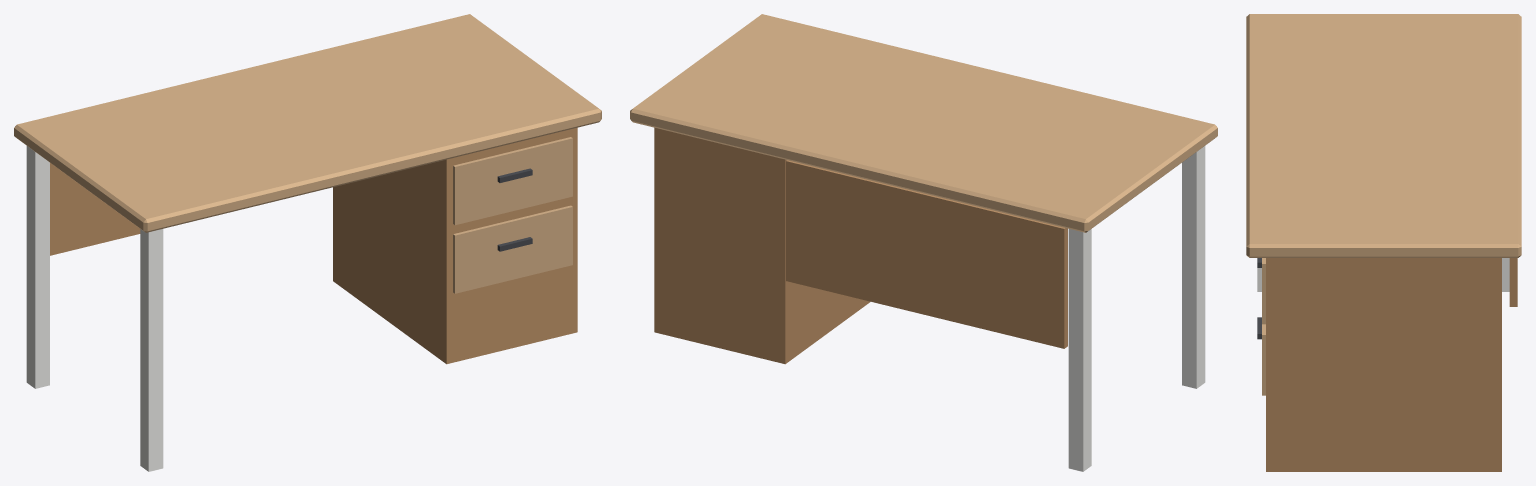
Rendered from desk_staff.glb.
3 views of the same model, side by side, from view 1: azimuth 30°, elevation 25°; view 2: azimuth 150°, elevation 25°; view 3: azimuth 270°, elevation 25° (orthographic). The views are drawn at different scales.
Visible parts, largest first — view 1: desk_staff; view 2: desk_staff; view 3: desk_staff.
Boxes of the visible parts, bbox=[...] form: desk_staff: bbox=[14, 14, 601, 471]; desk_staff: bbox=[630, 14, 1217, 471]; desk_staff: bbox=[1246, 14, 1521, 471].
Bounding box in the file's own units: 1.4 × 0.75 × 0.7.
Materials: 1 (1 with a texture image).
